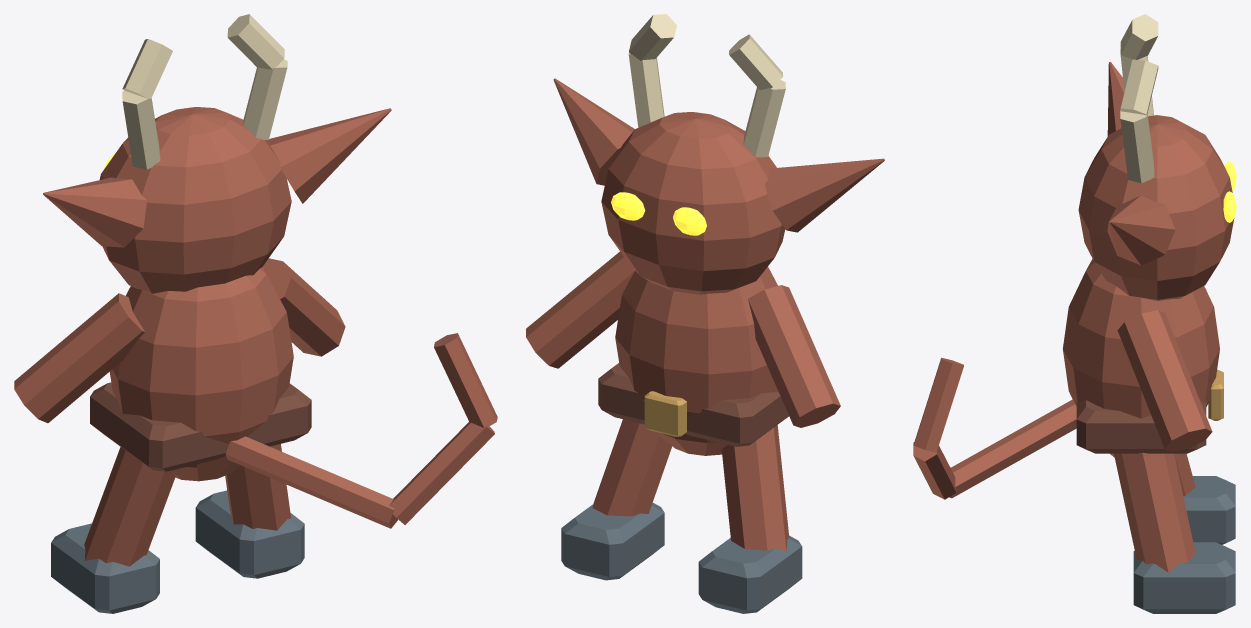
Rendered from source.glb.
3 views of the same model, side by side, from view 1: azimuth 30°, elevation 25°; view 2: azimuth 150°, elevation 25°; view 3: azimuth 270°, elevation 25° (orthographic). The views are drawn at different scales.
Visible parts, largest first — view 1: body; view 2: body; view 3: body.
Part boxes in pixels (x1,y1,x2,y2): body: (14,14,497,613); body: (526,14,884,613); body: (913,14,1236,613).
Size of the model in its own units: 0.9847 by 1.49 by 0.8219.
